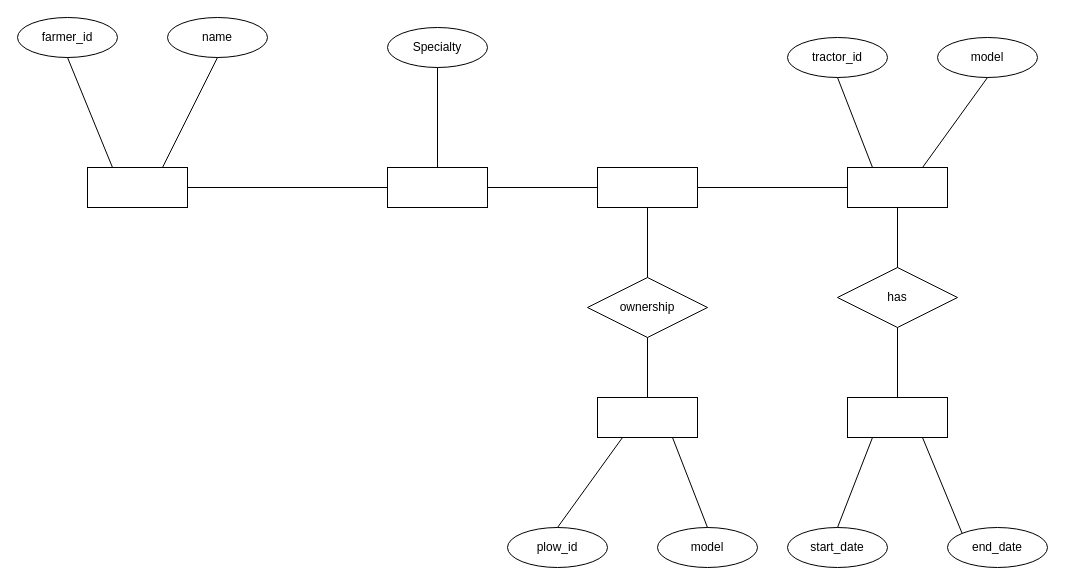
This 1065x585 diagram has some shape labels left out. The shapes that lost their labels are listed below. From the top down, each one's centre as x and y in pixels, then its label:
At [137,187]: "Farmer".
At [437,187]: "Crop Farmer".
At [647,187]: "Livestock Farmer".
At [897,187]: "Tractor".
At [647,417]: "Plow".
At [897,417]: "Rental".
